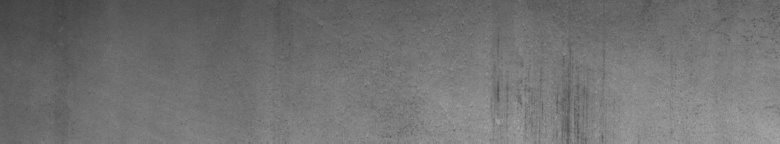ka: (485, 82, 584, 136)
